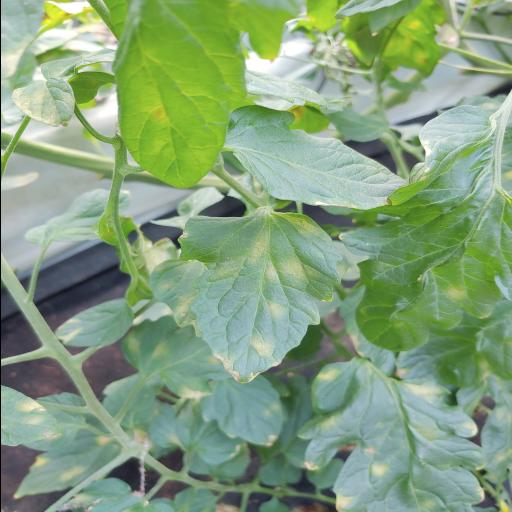Leaf Mold: (352, 136, 512, 352), (174, 208, 344, 384), (296, 358, 486, 512), (51, 298, 135, 347)
